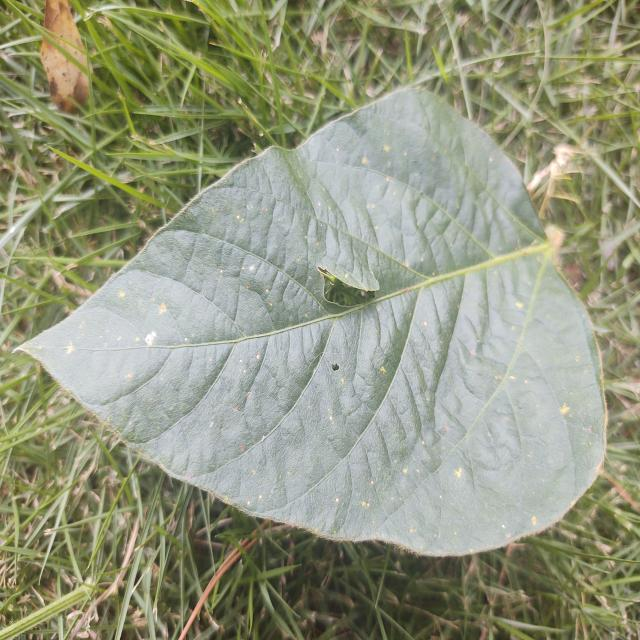Soybean: (17, 84, 608, 559)
downey_mildew: (422, 241, 613, 537), (369, 88, 554, 274), (313, 109, 427, 308), (176, 288, 313, 436), (21, 307, 183, 418), (141, 156, 287, 266), (384, 274, 456, 467), (102, 273, 242, 362), (438, 260, 502, 440)
